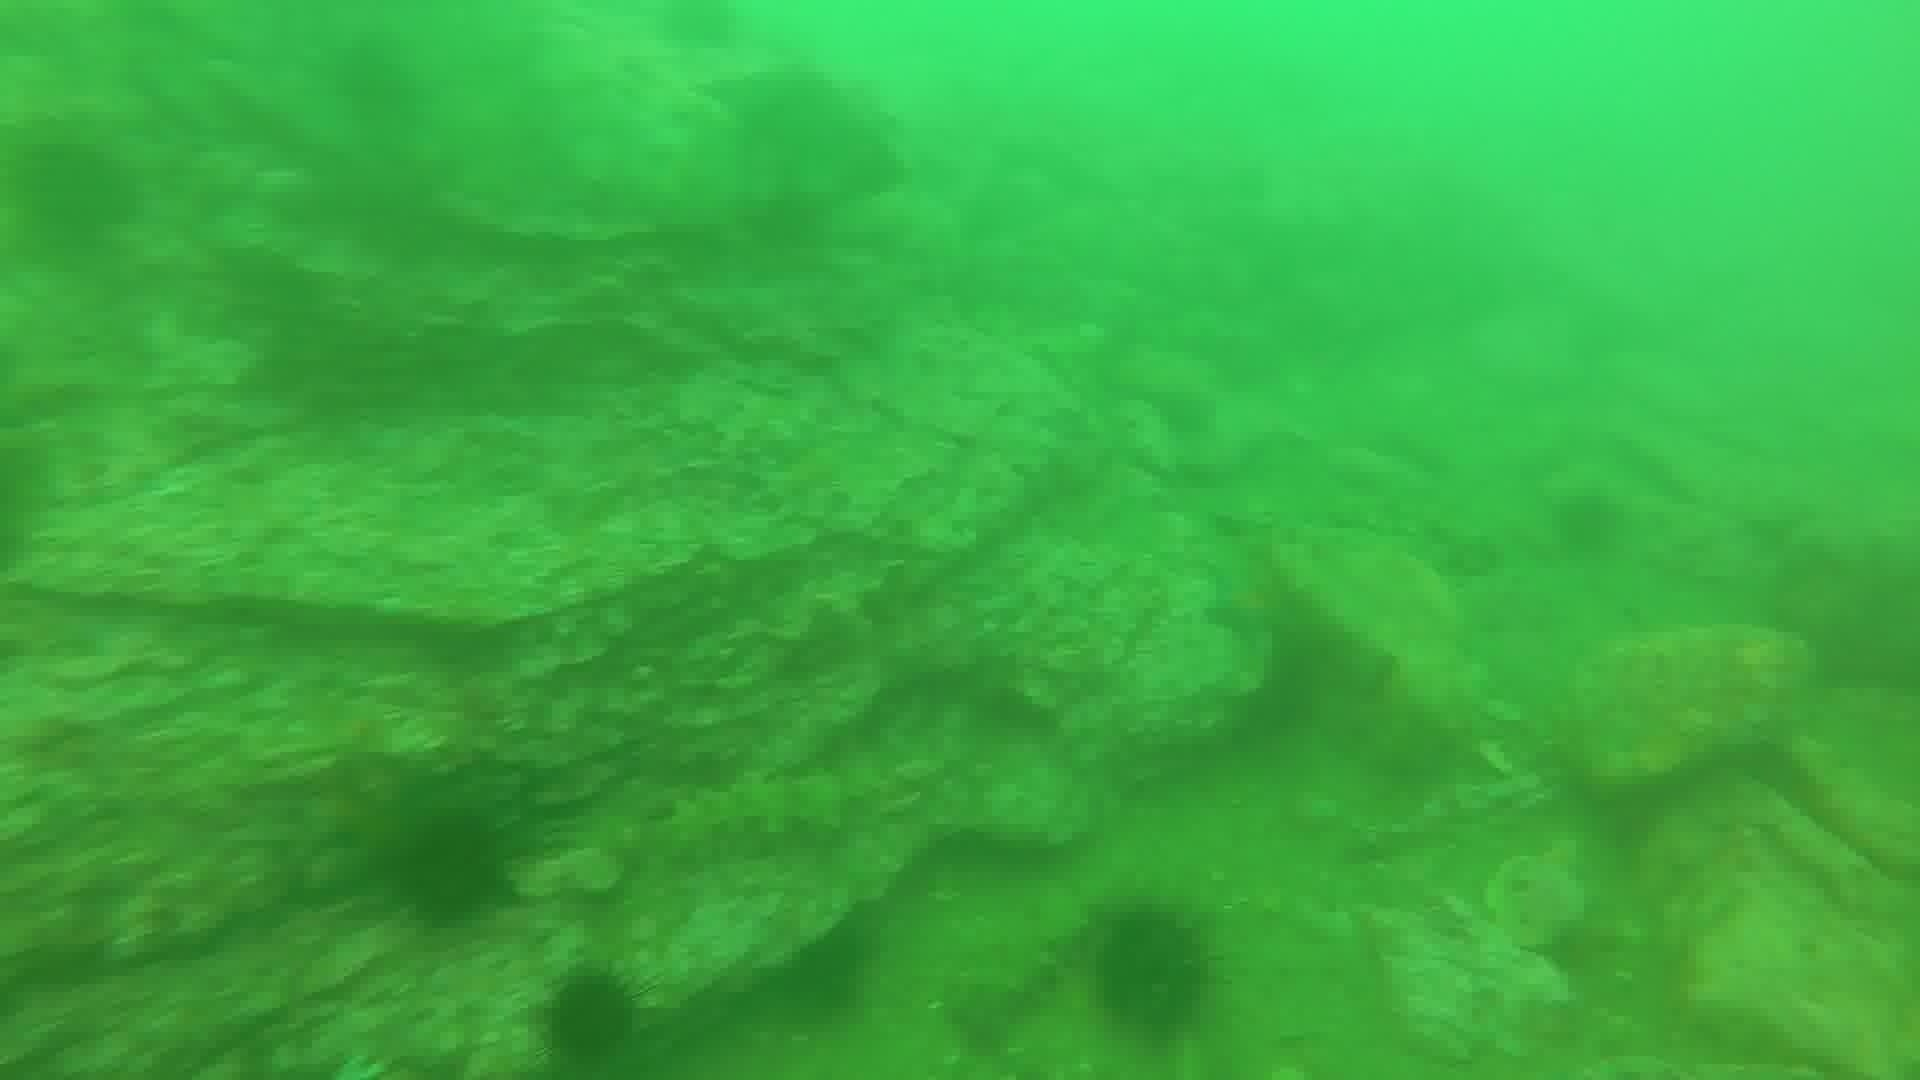echinus: (1083, 897, 1222, 1046), (380, 802, 517, 932), (8, 125, 142, 257), (535, 965, 645, 1068), (1547, 483, 1629, 562)
holothurian: (949, 882, 1087, 1052), (653, 767, 868, 872)
starfish: (680, 47, 916, 212), (1196, 545, 1295, 650)
